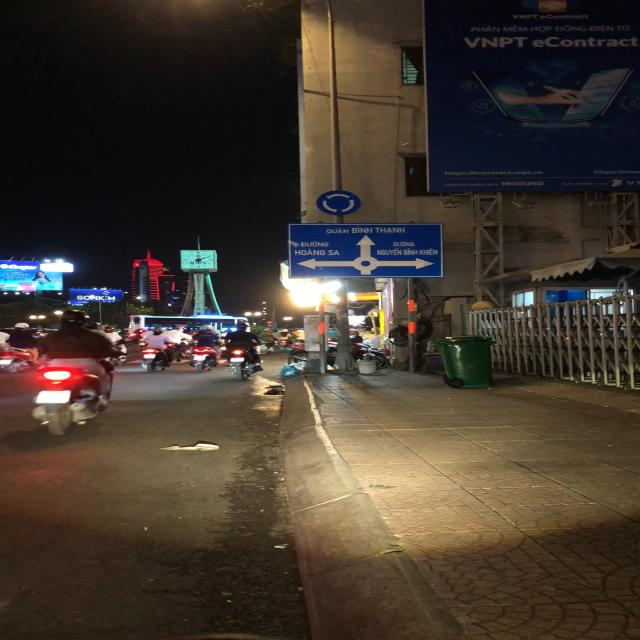Bien bao noi giao nhau chay theo vong xuyen: (315, 189, 364, 218)
